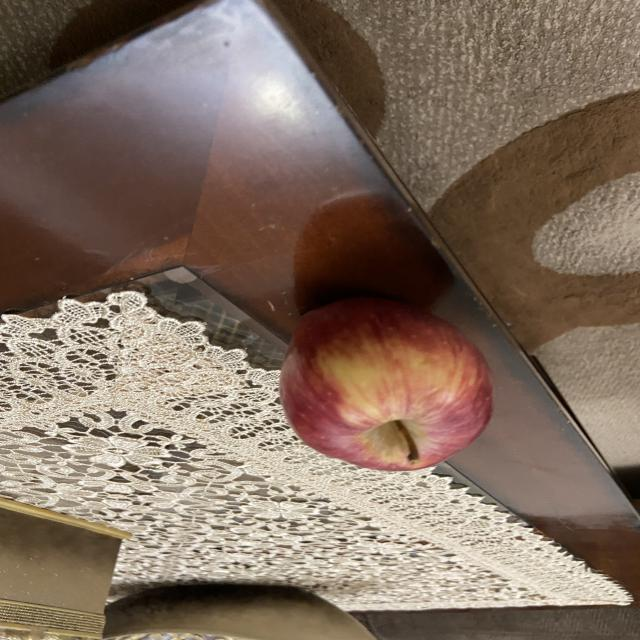apple: (276, 297, 498, 480)
